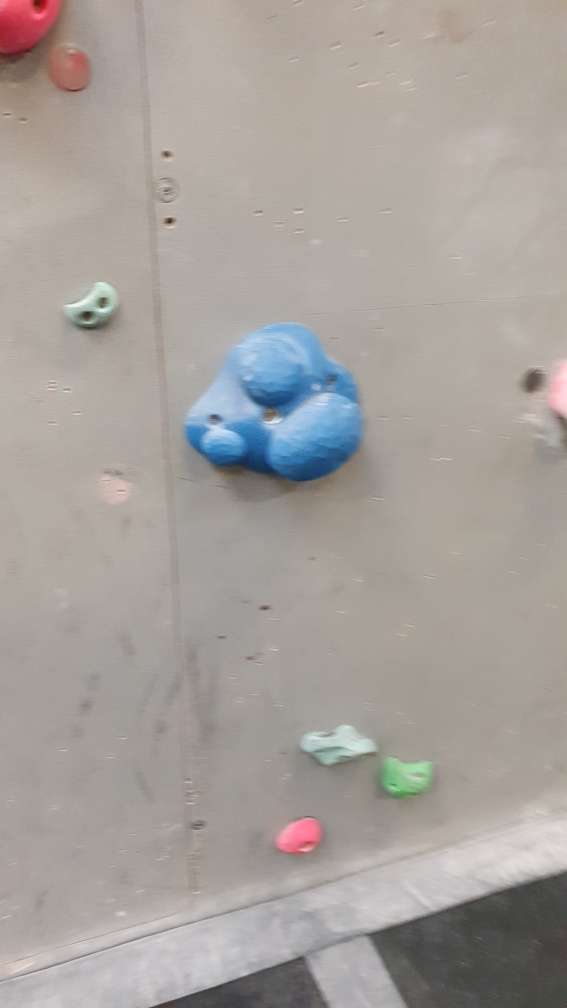Sloper: (185, 321, 364, 484)
